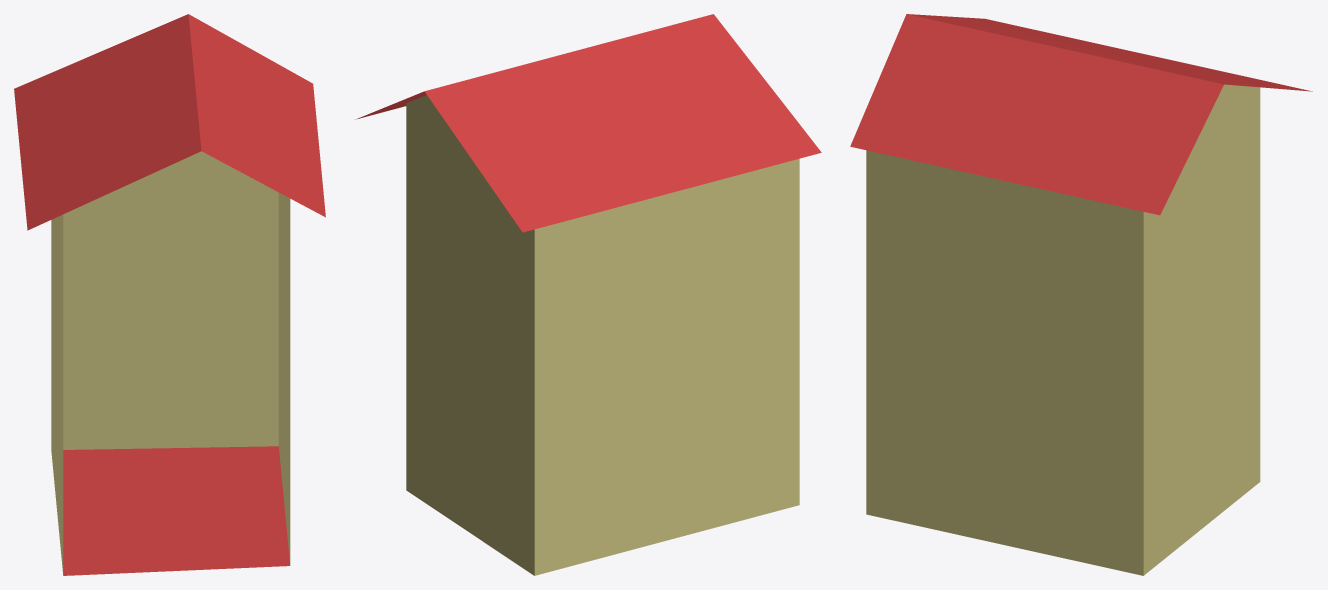
The picture shows the model from 3 angles, left to right: view 1: azimuth 30°, elevation 25°; view 2: azimuth 150°, elevation 25°; view 3: azimuth 270°, elevation 25°; orthographic projection. The views are drawn at different scales.
Bounding box in the file's own units: 5.88 × 5.86 × 6.45.
